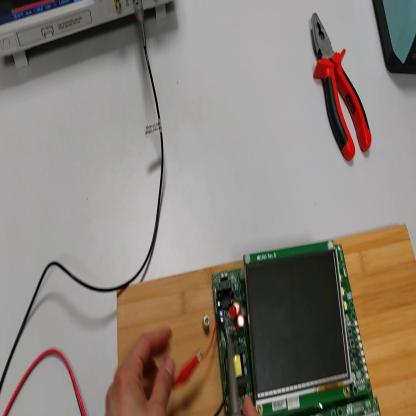hand: (104, 327, 176, 416), (242, 399, 259, 415)
low voltage board: (200, 241, 380, 415)
oscilloscope: (1, 1, 172, 71)
oscilloscope probe tip: (227, 334, 242, 416)
pliers: (310, 15, 374, 161)
welder station: (373, 1, 416, 74)
working area: (118, 220, 416, 414)
